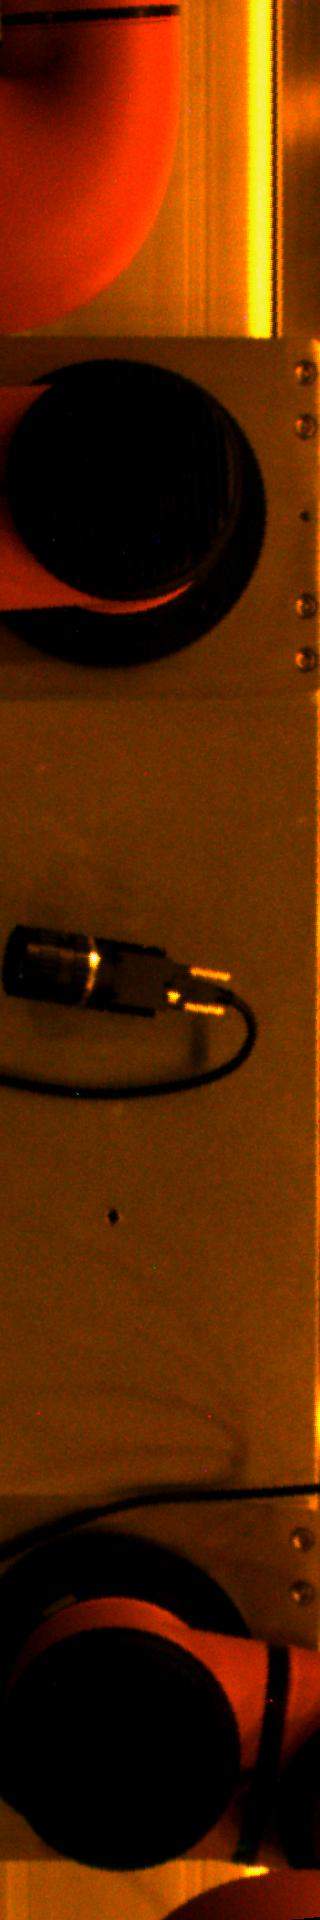keyPoint_2: (97, 1202, 128, 1232)
